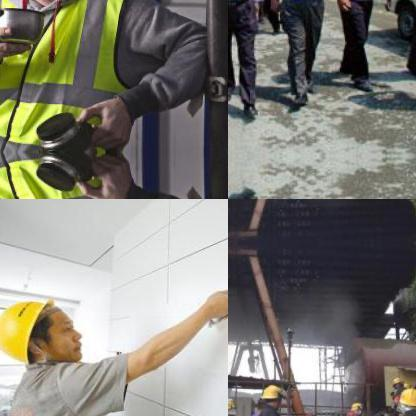Helmet: (0, 293, 90, 374), (258, 381, 282, 407), (395, 386, 415, 413), (388, 374, 404, 386), (228, 396, 237, 415)
